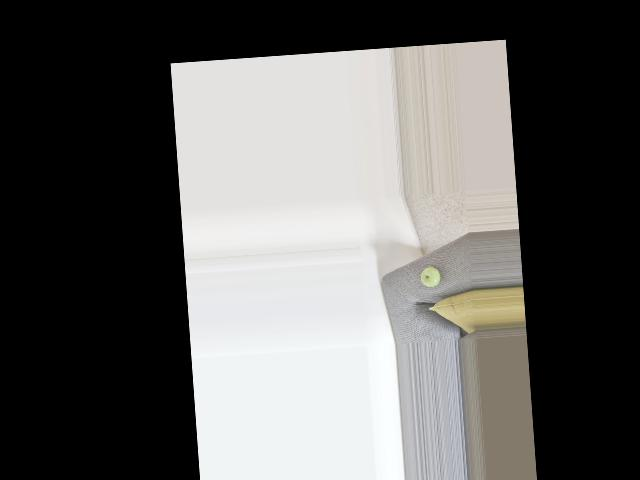apple: (419, 266, 443, 288)
